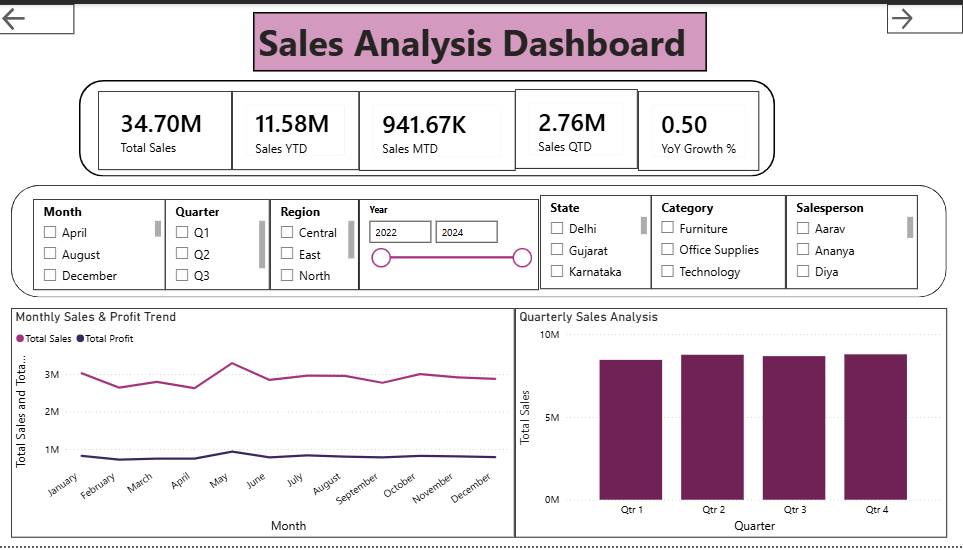

The dashboard page shown, as its layout file describes it:
{"tool":"powerbi","page":{"name":"Sales Analysis Dashboard","canvas":[1280,720],"ordinal":2},"visuals":[{"type":"textbox","box":[337.6,10.5,603.5,79.2],"z":0},{"type":"shape","box":[106.1,101.6,924.6,128.5],"z":1000},{"type":"cardVisual","fields":{"Data":["FactSales.Total Sales"]},"box":[131.5,115,177.8,104.6],"z":2000},{"type":"cardVisual","fields":{"Data":["FactSales.Sales YTD"]},"box":[309.2,115,168.8,104.6],"z":3000},{"type":"cardVisual","fields":{"Data":["FactSales.Sales MTD"]},"box":[478,115,207.6,106.1],"z":4000},{"type":"cardVisual","fields":{"Data":["FactSales.Sales QTD"]},"box":[685.6,113.5,162.8,106.1],"z":5000},{"type":"cardVisual","fields":{"Data":["FactSales.YoY Growth %"]},"box":[848.5,115,161.3,106.1],"z":6000},{"type":"shape","box":[16.4,240.5,1242.8,149.4],"z":7000},{"type":"slicer","fields":{"Values":["Date Table.Year"]},"box":[478,258.4,239,121],"z":8000},{"type":"slicer","fields":{"Values":["Date Table.Quarter"]},"box":[221.1,258.4,138.9,121],"z":9000},{"type":"slicer","fields":{"Values":["Date Table.Month"]},"box":[44.8,258.4,176.3,121],"z":10000},{"type":"slicer","fields":{"Values":["DimLocation.Region"]},"box":[360,258.4,118,121],"z":11000},{"type":"slicer","fields":{"Values":["DimLocation.State"]},"box":[718.5,253.9,147.9,125.5],"z":12000},{"type":"slicer","fields":{"Values":["DimProduct.Category"]},"box":[866.4,253.9,179.3,125.5],"z":13000},{"type":"slicer","fields":{"Values":["FactSales.Salesperson"]},"box":[1045.6,253.9,174.8,125.5],"z":14000},{"type":"lineChart","title":"Monthly Sales & Profit Trend","fields":{"Category":["Date Table.Date.Variation.Date Hierarchy.Month"],"Y":["FactSales.Total Sales","FactSales.Total Profit"]},"box":[16.4,403.3,669.2,304.7],"z":15000},{"type":"clusteredColumnChart","title":"Quarterly Sales Analysis","fields":{"Category":["Date Table.Date.Variation.Date Hierarchy.Quarter"],"Y":["FactSales.Total Sales"]},"box":[685.6,403.3,573.6,304.7],"z":16000},{"type":"actionButton","box":[0,0,100,40],"z":17000},{"type":"actionButton","box":[0,0,100,40],"z":18000},{"type":"actionButton","box":[1179.2,0,100.8,39.3],"z":19000}]}

Visuals, with their boxes in screenshot pixels (x1, y1, x2, y2), scaled from the page's 1280x720 canvas onto the 963x550 screenshot:
textbox: [left=254, top=8, right=708, bottom=69]
shape: [left=80, top=78, right=775, bottom=176]
cardVisual - FactSales.Total Sales: [left=99, top=88, right=233, bottom=168]
cardVisual - FactSales.Sales YTD: [left=233, top=88, right=360, bottom=168]
cardVisual - FactSales.Sales MTD: [left=360, top=88, right=516, bottom=169]
cardVisual - FactSales.Sales QTD: [left=516, top=87, right=638, bottom=168]
cardVisual - FactSales.YoY Growth %: [left=638, top=88, right=760, bottom=169]
shape: [left=12, top=184, right=947, bottom=298]
slicer - Date Table.Year: [left=360, top=197, right=539, bottom=290]
slicer - Date Table.Quarter: [left=166, top=197, right=271, bottom=290]
slicer - Date Table.Month: [left=34, top=197, right=166, bottom=290]
slicer - DimLocation.Region: [left=271, top=197, right=360, bottom=290]
slicer - DimLocation.State: [left=541, top=194, right=652, bottom=290]
slicer - DimProduct.Category: [left=652, top=194, right=787, bottom=290]
slicer - FactSales.Salesperson: [left=787, top=194, right=918, bottom=290]
"Monthly Sales & Profit Trend" lineChart: [left=12, top=308, right=516, bottom=541]
"Quarterly Sales Analysis" clusteredColumnChart: [left=516, top=308, right=947, bottom=541]
actionButton: [left=0, top=0, right=75, bottom=31]
actionButton: [left=0, top=0, right=75, bottom=31]
actionButton: [left=887, top=0, right=962, bottom=30]
